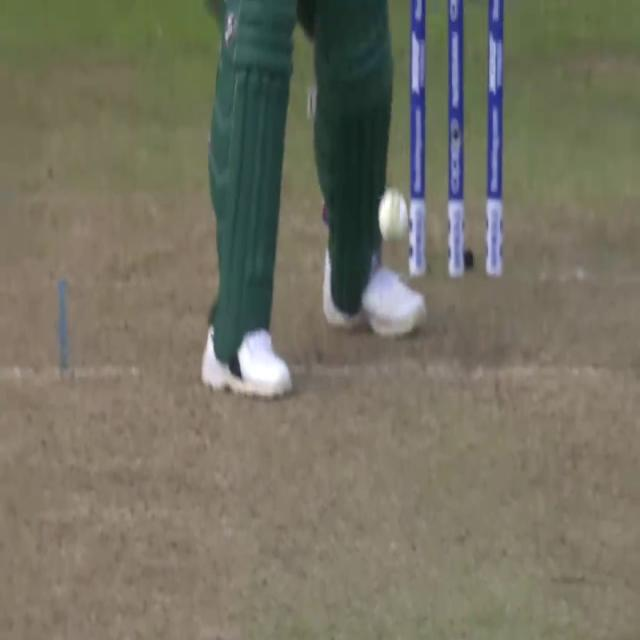ball: (370, 175, 410, 252)
